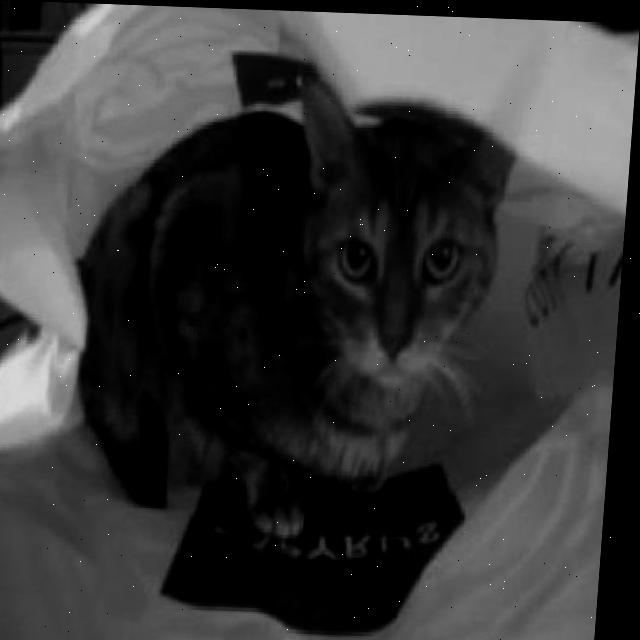Cat: (61, 69, 520, 546)
